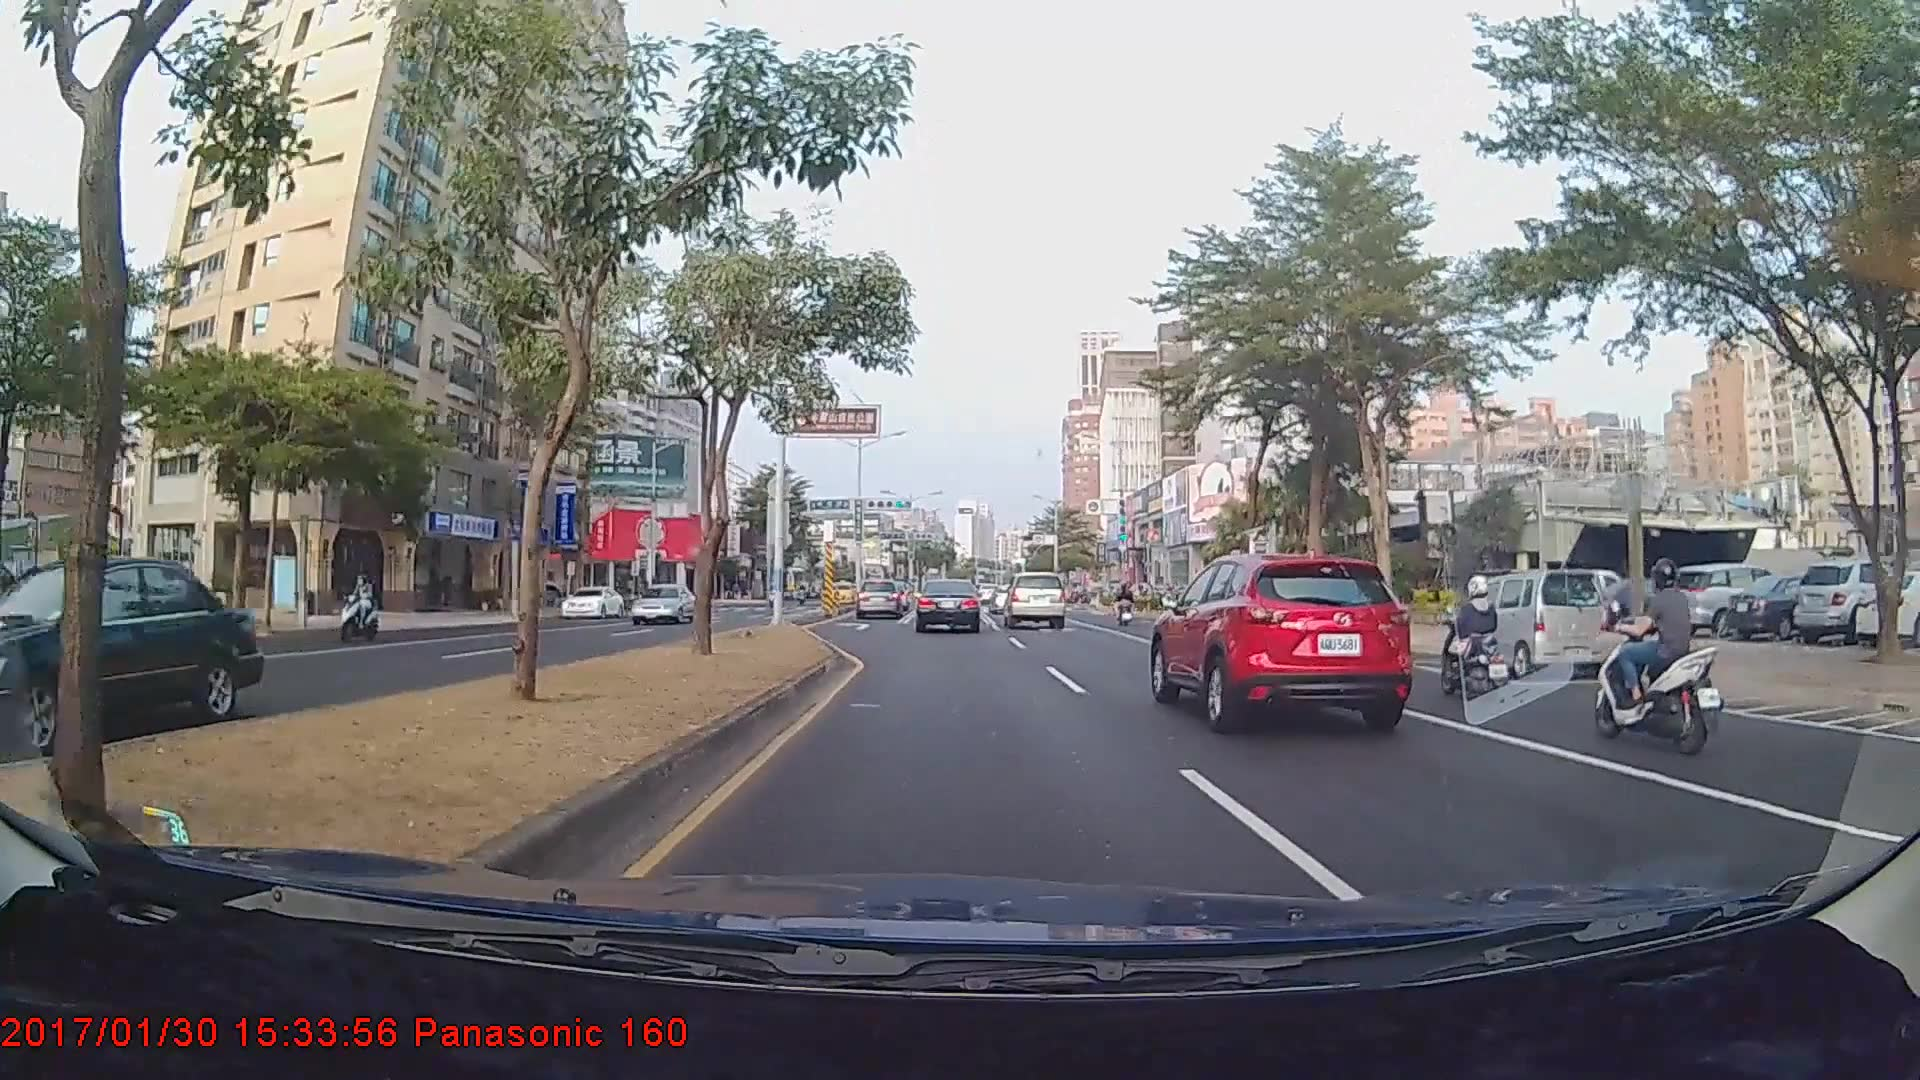rider: (1586, 555, 1728, 755), (1430, 572, 1528, 713), (337, 571, 385, 643), (1118, 588, 1140, 631)
vehicle: (0, 556, 262, 756), (1151, 546, 1413, 727), (1448, 568, 1610, 683), (1664, 564, 1791, 637), (1003, 571, 1067, 629), (915, 578, 981, 633), (629, 583, 698, 624), (854, 577, 909, 620), (560, 584, 625, 617)
